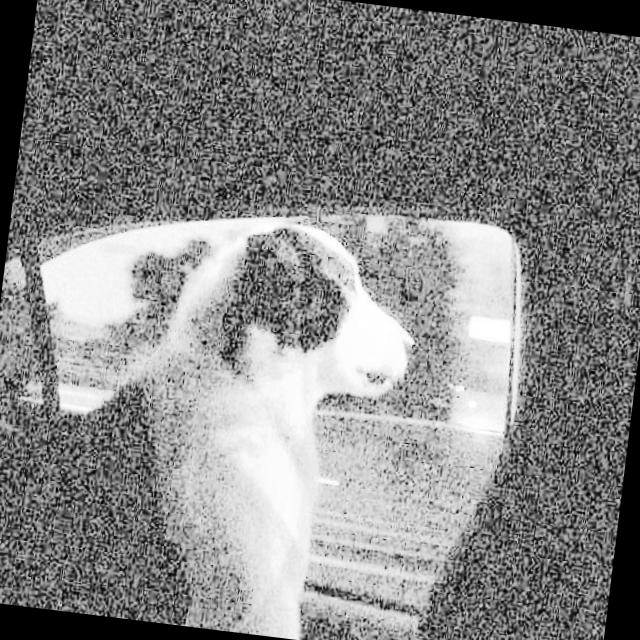Dog: (0, 187, 435, 640)
